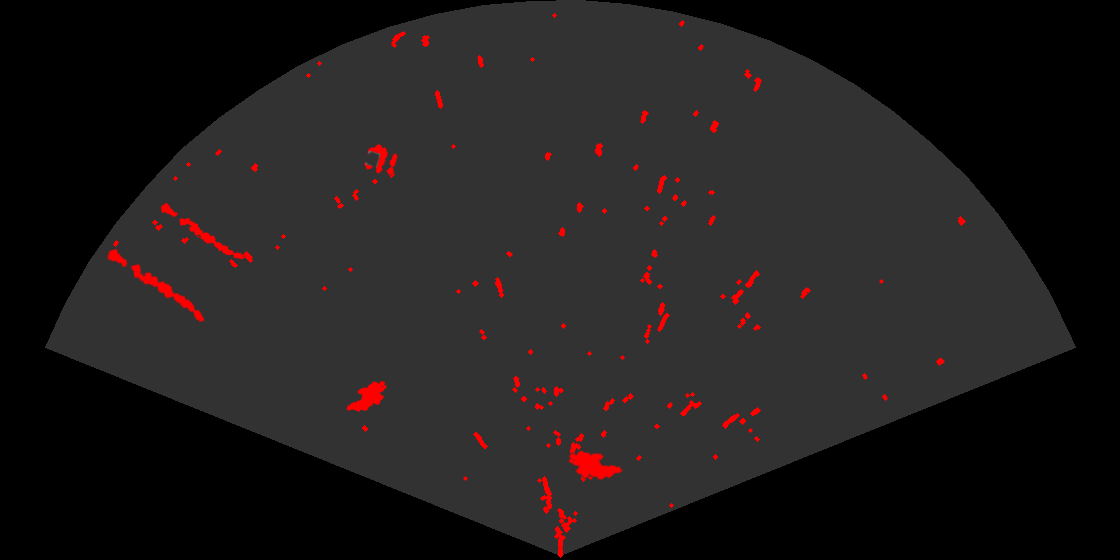AUV: (567, 449, 624, 481), (345, 379, 388, 413)
ball: (363, 143, 399, 177)
chain: (105, 247, 206, 324), (159, 201, 246, 261)
